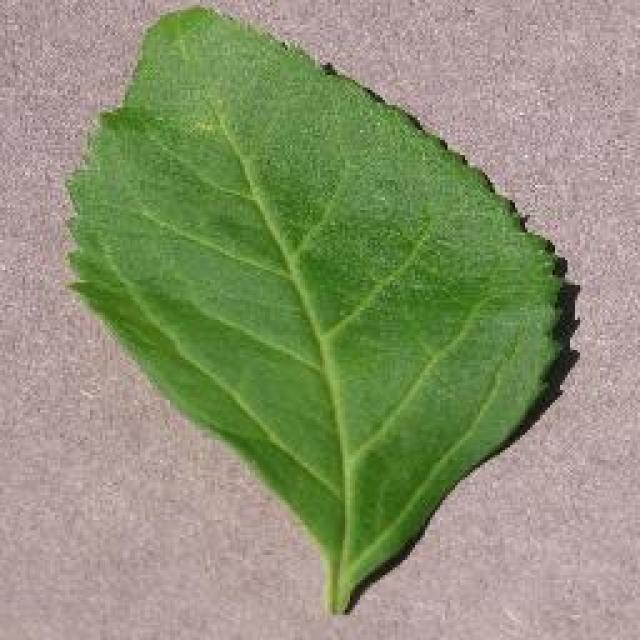Cherry___healthy: (52, 0, 582, 628)
